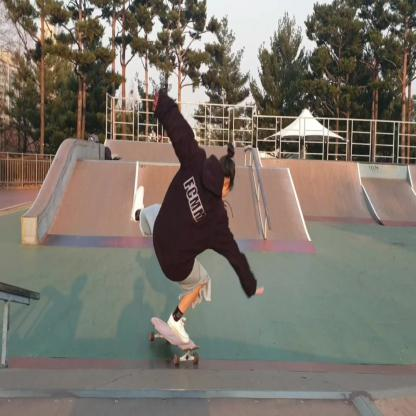Fall_Down: (129, 84, 267, 349)
